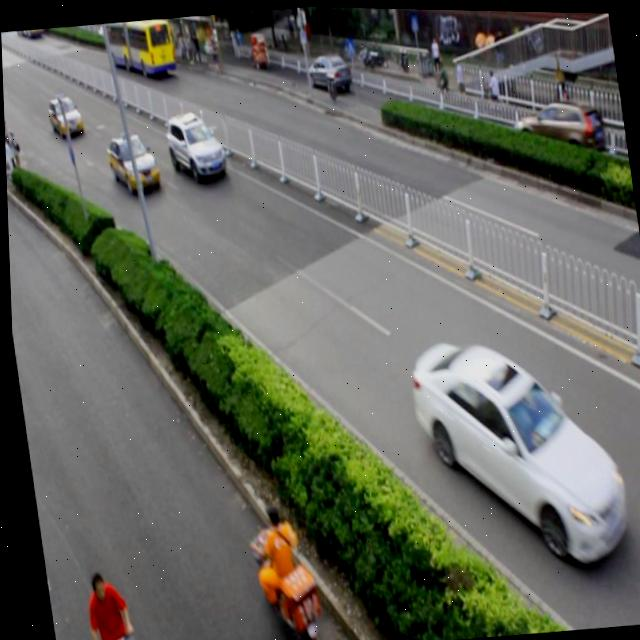car: (403, 323, 632, 578), (512, 92, 607, 177), (161, 108, 226, 184), (103, 132, 160, 200), (304, 49, 349, 96), (46, 93, 82, 138)
van: (102, 16, 177, 81)
